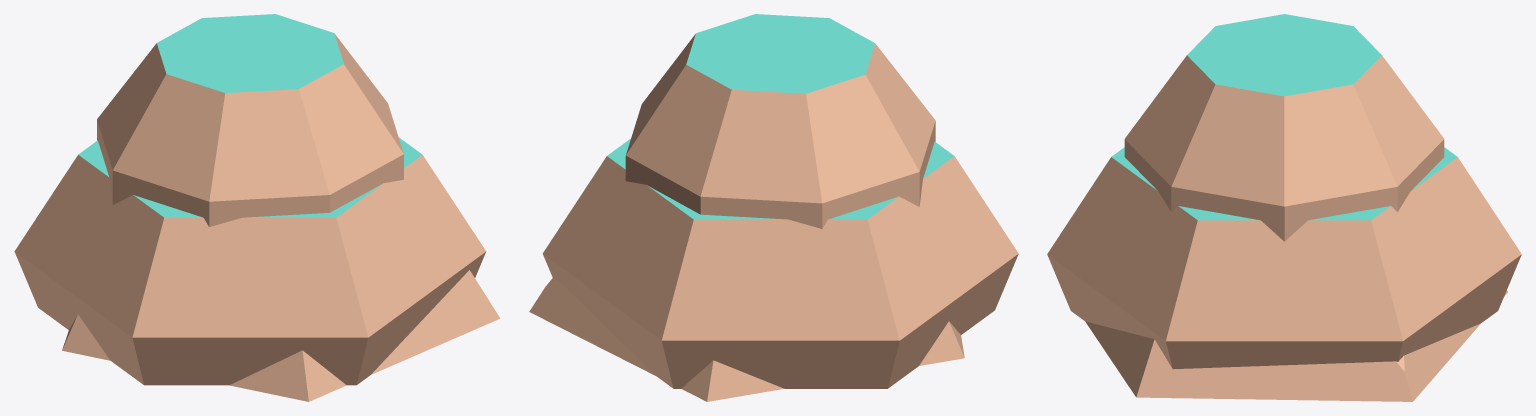
File: pebbles.glb
The picture shows the model from 3 angles, left to right: view 1: azimuth 30°, elevation 25°; view 2: azimuth 150°, elevation 25°; view 3: azimuth 270°, elevation 25°; orthographic projection.
Parts seen in each view (by area): view 1: rock_smallG, rock_smallH, rock_smallTopB; view 2: rock_smallG, rock_smallH, rock_smallTopB; view 3: rock_smallG, rock_smallH, rock_smallTopB.
Boxes of the visible parts, x1,y1,x2,y2 form: rock_smallG: (14, 137, 486, 385); rock_smallH: (97, 14, 403, 226); rock_smallTopB: (62, 270, 500, 401); rock_smallG: (542, 138, 1018, 388); rock_smallH: (625, 14, 935, 228); rock_smallTopB: (529, 278, 964, 401); rock_smallG: (1047, 147, 1521, 369); rock_smallH: (1124, 14, 1444, 241); rock_smallTopB: (1085, 290, 1507, 401).
Size of the model in its own units: 0.6221 by 0.4074 by 0.6855.
